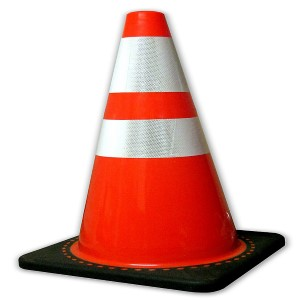traffic cone: (18, 9, 285, 293)
